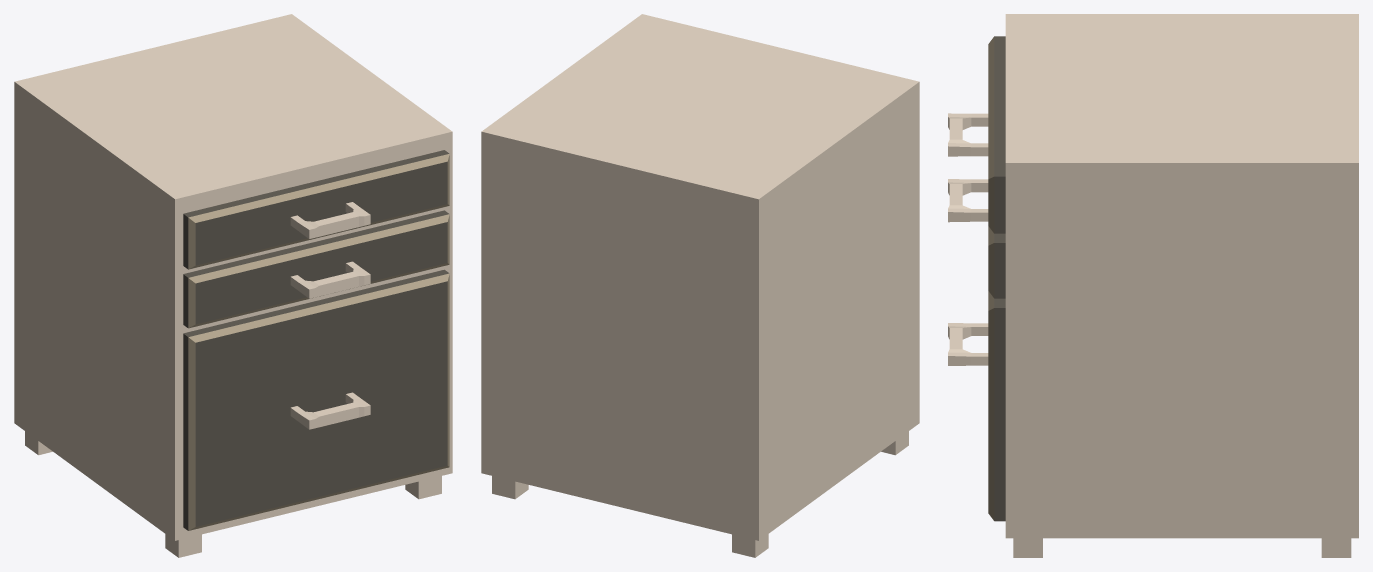
The model's file is Prop_Cabinet_01.fbx.
3 views of the same model, side by side, from view 1: azimuth 30°, elevation 25°; view 2: azimuth 150°, elevation 25°; view 3: azimuth 270°, elevation 25° (orthographic). The views are drawn at different scales.
Visible parts, largest first — view 1: Prop_Cabinet_01; view 2: Prop_Cabinet_01; view 3: Prop_Cabinet_01.
Part boxes in pixels (<box>): Prop_Cabinet_01: <box>14,14,452,557</box>; Prop_Cabinet_01: <box>481,14,919,557</box>; Prop_Cabinet_01: <box>948,14,1358,557</box>.
Bounding box in the file's own units: 60 × 75 × 70.
